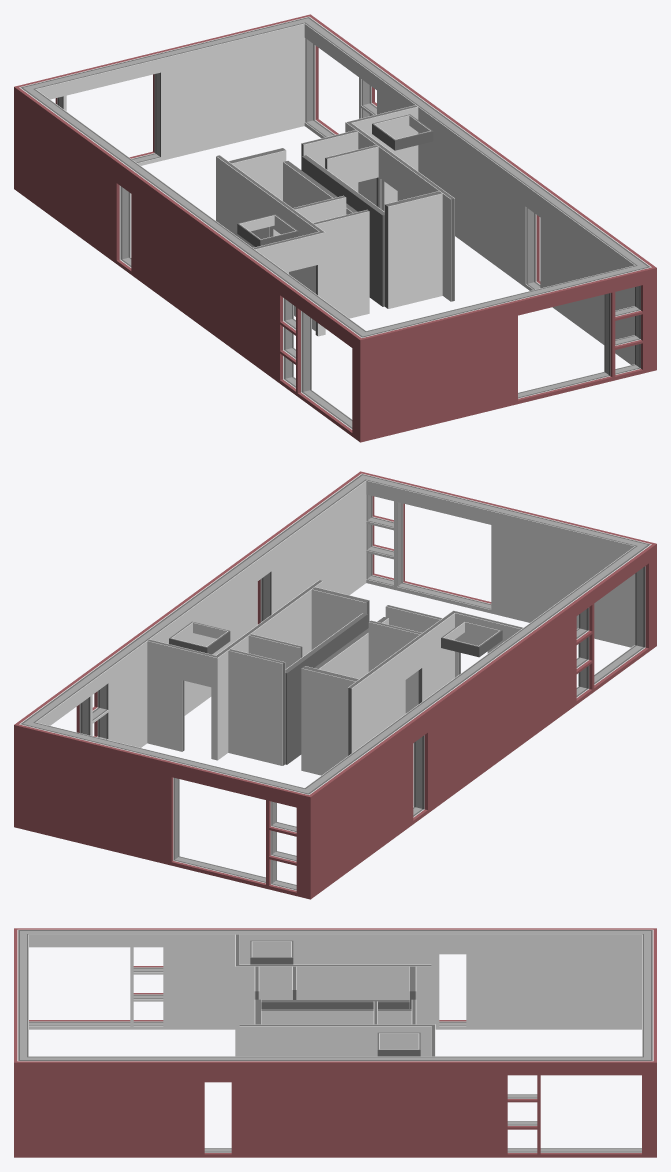
The model's file is Duplex_A_20110907_Level_2_IfcWallStandardCase.dae.
3 views of the same model, one above another, from view 1: azimuth 30°, elevation 25°; view 2: azimuth 150°, elevation 25°; view 3: azimuth 270°, elevation 25° (orthographic). The views are drawn at different scales.
Parts seen in each view (by area): view 1: 2O2Fr$t4X7Zf8NOew3FLPP, 2O2Fr$t4X7Zf8NOew3FLR9, 2O2Fr$t4X7Zf8NOew3FLOH, 2O2Fr$t4X7Zf8NOew3FLQD, 2O2Fr$t4X7Zf8NOew3FLCm, 2O2Fr$t4X7Zf8NOew3FLIE, 2O2Fr$t4X7Zf8NOew3FLKI, 2O2Fr$t4X7Zf8NOew3FL9r, 0dxE1Sy6nDqfpDb5vIMNiA, 2O2Fr$t4X7Zf8NOew3FLJd, 2O2Fr$t4X7Zf8NOew3FL96, 1aj$VJZFn2TxepZUBcKpZw (+4 smaller); view 2: 2O2Fr$t4X7Zf8NOew3FLPP, 2O2Fr$t4X7Zf8NOew3FLQD, 2O2Fr$t4X7Zf8NOew3FLR9, 2O2Fr$t4X7Zf8NOew3FLOH, 2O2Fr$t4X7Zf8NOew3FLIE, 2O2Fr$t4X7Zf8NOew3FLEJ, 2O2Fr$t4X7Zf8NOew3FL96, 2O2Fr$t4X7Zf8NOew3FLMr, 2O2Fr$t4X7Zf8NOew3FL9r, 0dxE1Sy6nDqfpDb5vIMNiA, 2O2Fr$t4X7Zf8NOew3FLCm, 0dxE1Sy6nDqfpDb5vIMN_Z (+4 smaller); view 3: 2O2Fr$t4X7Zf8NOew3FLR9, 2O2Fr$t4X7Zf8NOew3FLPP, 2O2Fr$t4X7Zf8NOew3FLIE, 2O2Fr$t4X7Zf8NOew3FL9r, 0dxE1Sy6nDqfpDb5vIMNiA, 2O2Fr$t4X7Zf8NOew3FLOH, 2O2Fr$t4X7Zf8NOew3FLQD, 0dxE1Sy6nDqfpDb5vIMN_Z, 3Y4YRln2r91vflHcHE5ITm, 3Y4YRln2r91vflHcHE5IVT.
Boxes of the visible parts, left/top/right/bottom form: 2O2Fr$t4X7Zf8NOew3FLPP: left=14, top=86, right=365, bottom=441; 2O2Fr$t4X7Zf8NOew3FLR9: left=304, top=14, right=656, bottom=364; 2O2Fr$t4X7Zf8NOew3FLOH: left=360, top=265, right=656, bottom=442; 2O2Fr$t4X7Zf8NOew3FLQD: left=15, top=14, right=310, bottom=165; 2O2Fr$t4X7Zf8NOew3FLCm: left=384, top=191, right=442, bottom=308; 2O2Fr$t4X7Zf8NOew3FLIE: left=216, top=155, right=325, bottom=335; 2O2Fr$t4X7Zf8NOew3FLKI: left=313, top=209, right=369, bottom=318; 2O2Fr$t4X7Zf8NOew3FL9r: left=345, top=121, right=454, bottom=301; 0dxE1Sy6nDqfpDb5vIMNiA: left=301, top=155, right=384, bottom=306; 2O2Fr$t4X7Zf8NOew3FLJd: left=253, top=231, right=321, bottom=336; 2O2Fr$t4X7Zf8NOew3FL96: left=350, top=105, right=418, bottom=203; 1aj$VJZFn2TxepZUBcKpZw: left=325, top=145, right=378, bottom=207; 2O2Fr$t4X7Zf8NOew3FLPP: left=305, top=543, right=656, bottom=898; 2O2Fr$t4X7Zf8NOew3FLQD: left=14, top=722, right=310, bottom=899; 2O2Fr$t4X7Zf8NOew3FLR9: left=14, top=471, right=366, bottom=747; 2O2Fr$t4X7Zf8NOew3FLOH: left=360, top=471, right=655, bottom=647; 2O2Fr$t4X7Zf8NOew3FLIE: left=347, top=610, right=456, bottom=755; 2O2Fr$t4X7Zf8NOew3FLEJ: left=228, top=649, right=285, bottom=765; 2O2Fr$t4X7Zf8NOew3FL96: left=147, top=639, right=215, bottom=759; 2O2Fr$t4X7Zf8NOew3FLMr: left=301, top=666, right=358, bottom=775; 2O2Fr$t4X7Zf8NOew3FL9r: left=213, top=580, right=323, bottom=760; 0dxE1Sy6nDqfpDb5vIMNiA: left=285, top=613, right=367, bottom=764; 2O2Fr$t4X7Zf8NOew3FLCm: left=311, top=587, right=369, bottom=649; 0dxE1Sy6nDqfpDb5vIMN_Z: left=314, top=617, right=388, bottom=678; 2O2Fr$t4X7Zf8NOew3FLR9: left=14, top=1056, right=656, bottom=1157; 2O2Fr$t4X7Zf8NOew3FLPP: left=14, top=928, right=656, bottom=1029; 2O2Fr$t4X7Zf8NOew3FLIE: left=235, top=964, right=431, bottom=1056; 2O2Fr$t4X7Zf8NOew3FL9r: left=239, top=1024, right=435, bottom=1056; 0dxE1Sy6nDqfpDb5vIMNiA: left=261, top=1009, right=411, bottom=1056; 2O2Fr$t4X7Zf8NOew3FLOH: left=14, top=928, right=28, bottom=1062; 2O2Fr$t4X7Zf8NOew3FLQD: left=642, top=928, right=656, bottom=1062; 0dxE1Sy6nDqfpDb5vIMN_Z: left=261, top=1000, right=409, bottom=1008; 3Y4YRln2r91vflHcHE5ITm: left=250, top=940, right=291, bottom=950; 3Y4YRln2r91vflHcHE5IVT: left=377, top=1032, right=418, bottom=1042.
Bounding box in the file's own units: 8.8 × 17.8 × 2.9.
